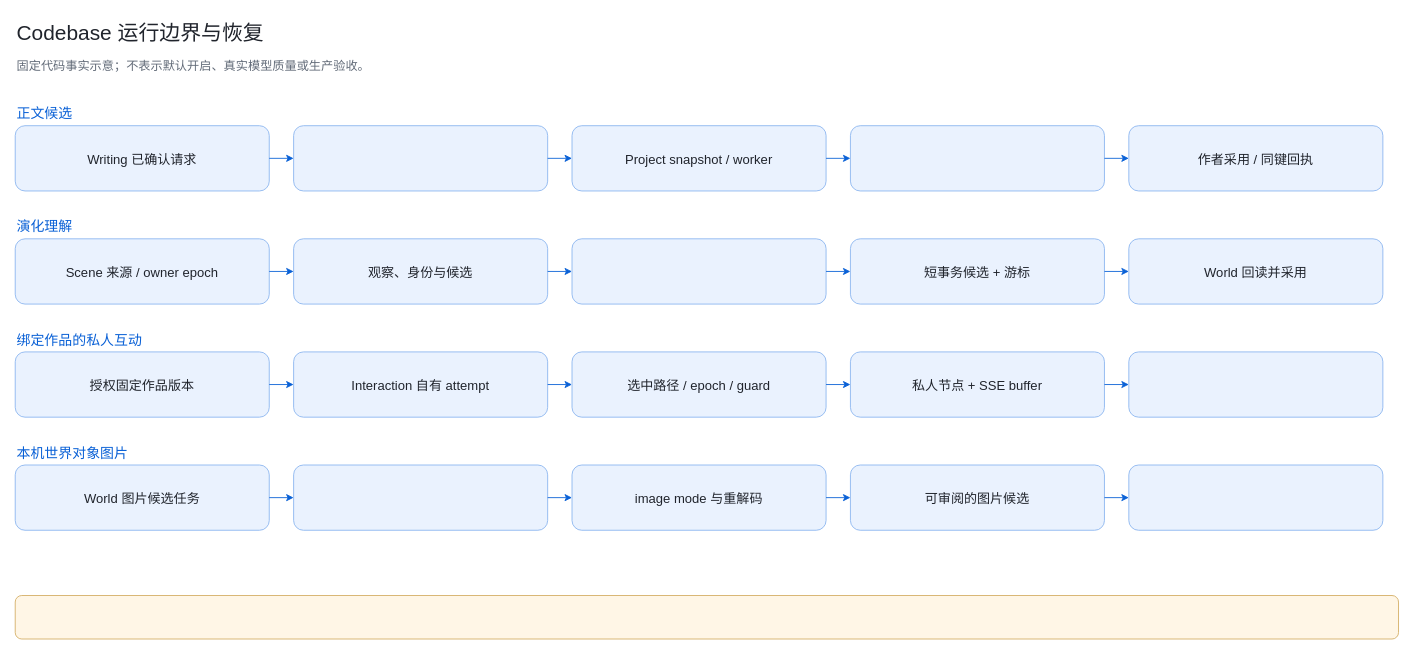
This 1414x654 diagram has some shape labels left out. The centre of each missing label's shape, as x and y in pixels:
"Evidence 同一确认回读" belongs at [420,158].
"不回写作者正史" belongs at [1255,384].
"作者采用 → 私有图片桶" belongs at [1255,497].
"冻结候选与来源复验" belongs at [977,158].
"复用须证明输入与请求相同；未知用量非零，自动重试可能产生重复费用。地图册正文来源建议性核对，非正文/正典未登记；图片单盘配对副本，整盘故障仍失。" belongs at [706,617].
"独立审查 / 冻结调用" belongs at [698,271].
"设备 / 双租约 / 确认" belongs at [420,497].
